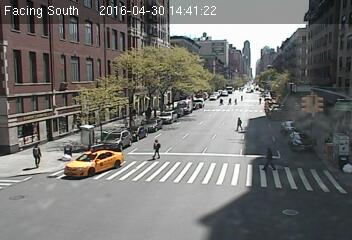neg: (150, 92, 174, 124), (85, 76, 108, 107), (176, 92, 197, 120), (25, 56, 45, 83), (295, 93, 315, 120), (120, 36, 138, 61), (278, 56, 293, 76), (179, 39, 193, 58), (329, 161, 343, 180), (83, 37, 96, 55), (250, 35, 263, 52), (232, 19, 245, 36), (221, 37, 233, 53), (304, 38, 316, 54), (322, 132, 333, 148), (325, 41, 336, 56), (279, 32, 289, 46), (265, 23, 273, 33)
pos: (25, 139, 45, 167), (260, 145, 280, 172), (147, 136, 164, 159), (233, 114, 247, 132), (237, 90, 247, 104), (256, 93, 265, 105), (231, 93, 239, 105), (226, 95, 233, 105), (217, 95, 224, 104)
